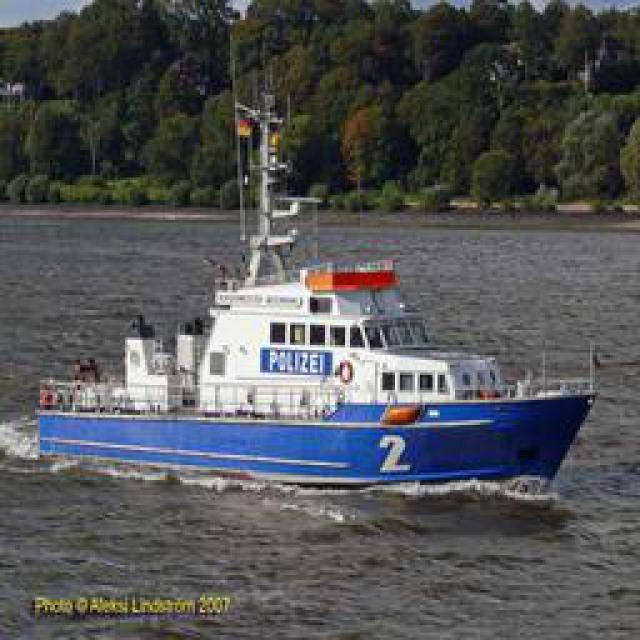Ship: (29, 206, 604, 501)
